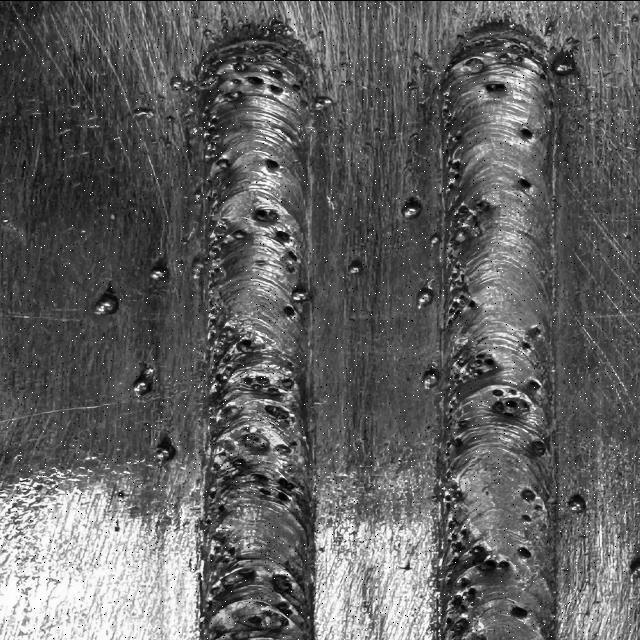Porosity: (240, 337, 252, 348)
